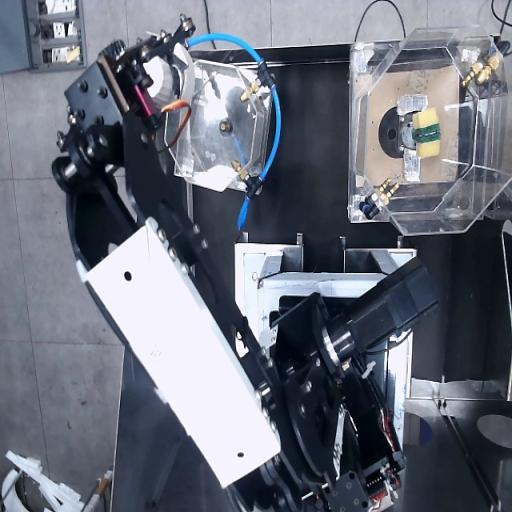cup in rinse station: (143, 45, 193, 109)
